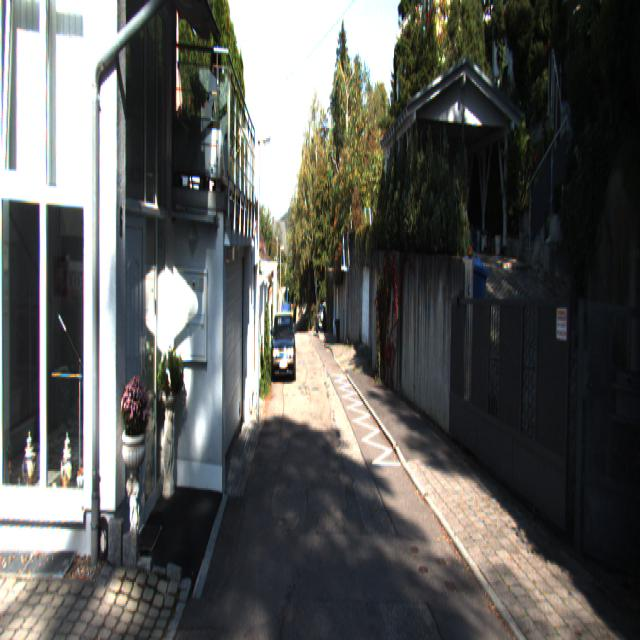Car: (271, 308, 296, 383)
